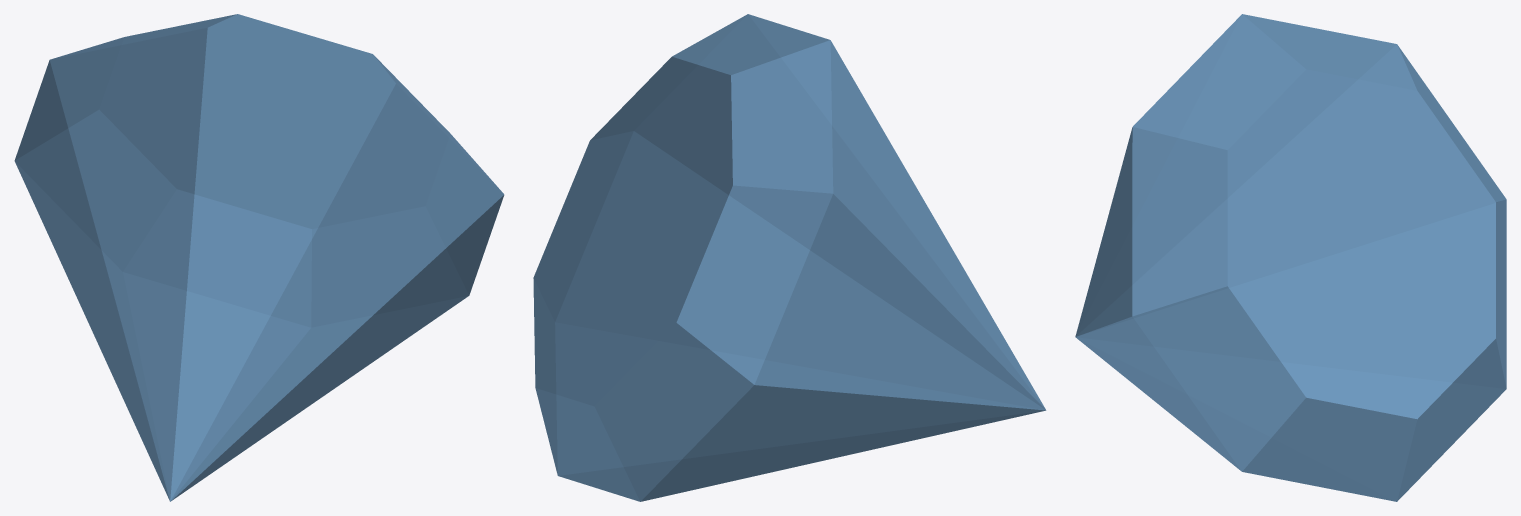
The model's file is PrototypeGem2.fbx.
The picture shows the model from 3 angles, left to right: view 1: azimuth 30°, elevation 25°; view 2: azimuth 150°, elevation 25°; view 3: azimuth 270°, elevation 25°; orthographic projection. The views are drawn at different scales.
Parts seen in each view (by area): view 1: Sapphire.001; view 2: Sapphire.001; view 3: Sapphire.001.
Boxes of the visible parts, bbox=[...] form: Sapphire.001: bbox=[14, 14, 504, 501]; Sapphire.001: bbox=[533, 14, 1046, 501]; Sapphire.001: bbox=[1075, 14, 1506, 501].
Bounding box in the file's own units: 66.88 × 66.98 × 65.5.
